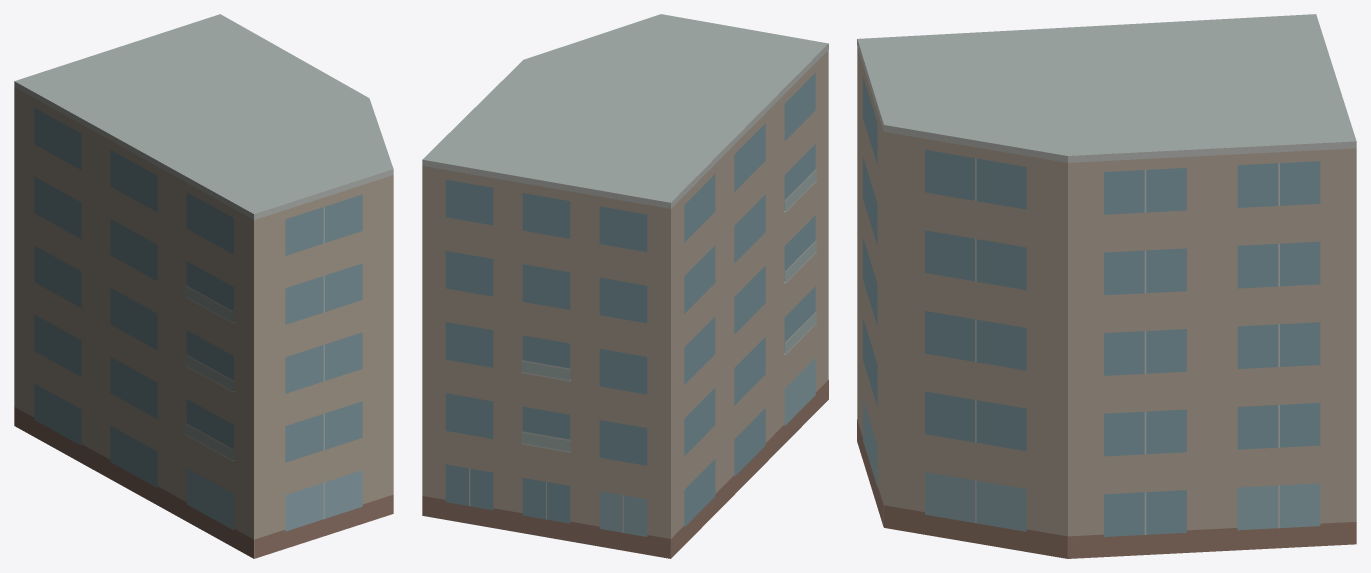
File: survey-upis-32703736.glb
3 views of the same model, side by side, from view 1: azimuth 30°, elevation 25°; view 2: azimuth 150°, elevation 25°; view 3: azimuth 270°, elevation 25° (orthographic). The views are drawn at different scales.
Parts seen in each view (by area): view 1: survey-upis-32703736.tmp; view 2: survey-upis-32703736.tmp; view 3: survey-upis-32703736.tmp.
Boxes of the visible parts, box(x1,y1,x2,y2) form: survey-upis-32703736.tmp: box(14, 14, 393, 558); survey-upis-32703736.tmp: box(422, 14, 828, 558); survey-upis-32703736.tmp: box(857, 14, 1356, 558).
Bounding box in the file's own units: 10.74 × 14.2 × 15.96.
